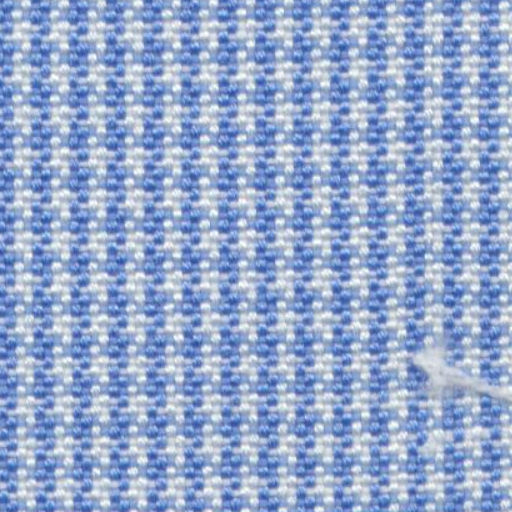DuanSha: (392, 322, 506, 414)
